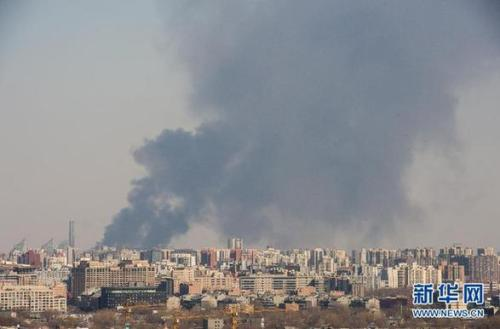smoke: (122, 10, 465, 221)
